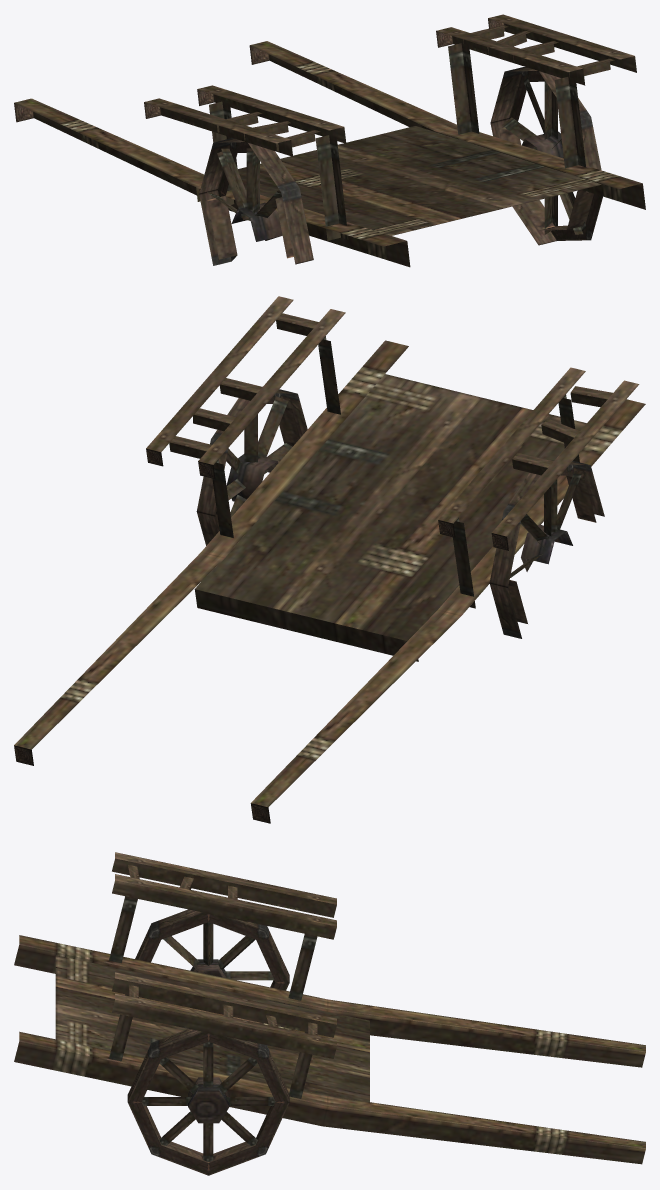
Rendered from zc_erhai_xiaotuiche01.FBX.
The picture shows the model from 3 angles, top to bottom: view 1: azimuth 30°, elevation 25°; view 2: azimuth 150°, elevation 25°; view 3: azimuth 270°, elevation 25°; orthographic projection. The views are drawn at different scales.
Parts seen in each view (by area): view 1: zc_erhai_xiaotuiche01; view 2: zc_erhai_xiaotuiche01; view 3: zc_erhai_xiaotuiche01.
Boxes of the visible parts, x1,y1,x2,y2 form: zc_erhai_xiaotuiche01: (14, 14, 645, 267); zc_erhai_xiaotuiche01: (14, 296, 645, 823); zc_erhai_xiaotuiche01: (14, 852, 645, 1175).
Size of the model in its own units: 163 by 96.22 by 296.
